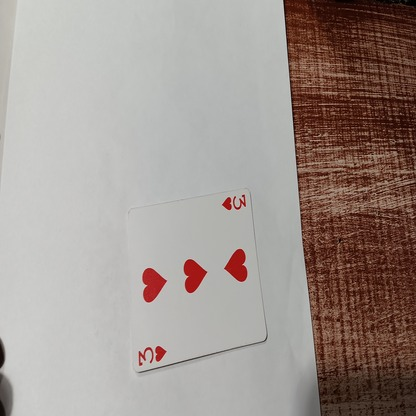3h: (136, 342, 167, 365), (221, 194, 247, 214)
